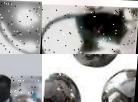ironball: (42, 4, 137, 54), (0, 0, 42, 54), (63, 54, 127, 74), (99, 70, 137, 101), (44, 72, 83, 101), (9, 74, 42, 101)
